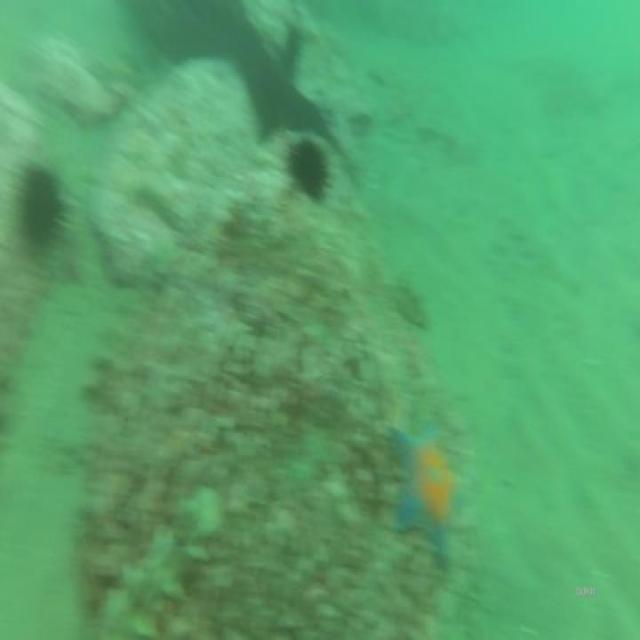echinus: (16, 153, 73, 261), (287, 126, 334, 207)
holothurian: (95, 483, 221, 640)
starfish: (388, 412, 470, 562)
